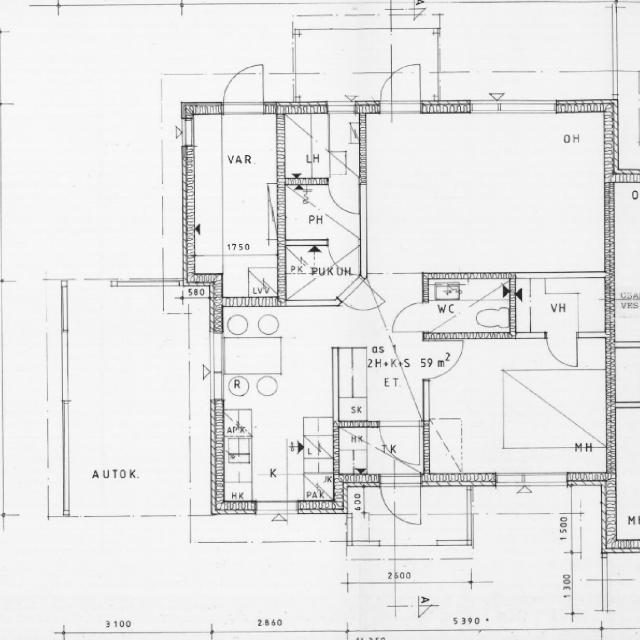door: (334, 275, 386, 325), (378, 474, 421, 528), (378, 61, 421, 113), (222, 62, 263, 113), (378, 422, 420, 468), (424, 341, 471, 380), (327, 177, 358, 214), (545, 333, 576, 368), (393, 301, 429, 331)
